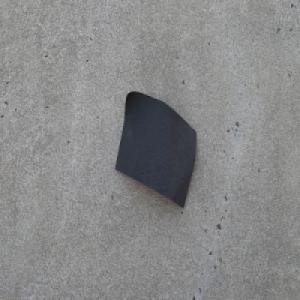PaintChip: (114, 89, 197, 209)
